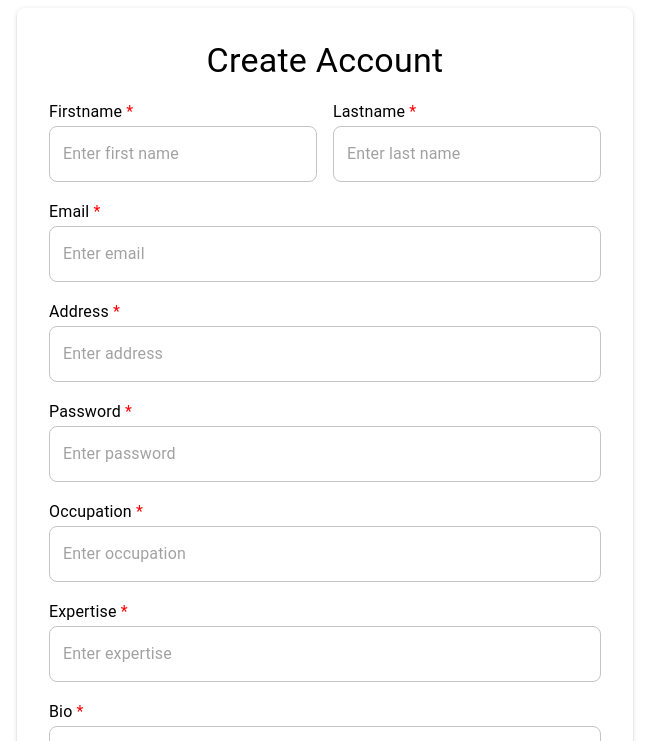
Test: CreateAccount Component › shows error message for invalid email format
The image size is (651, 741).
Note: Enter an invalid email and submit the form
Type "invalid-email" into the field with placeholder "Enter email" at (325, 254), box x1=49 y1=226 x2=601 y2=282
(page scrolled)
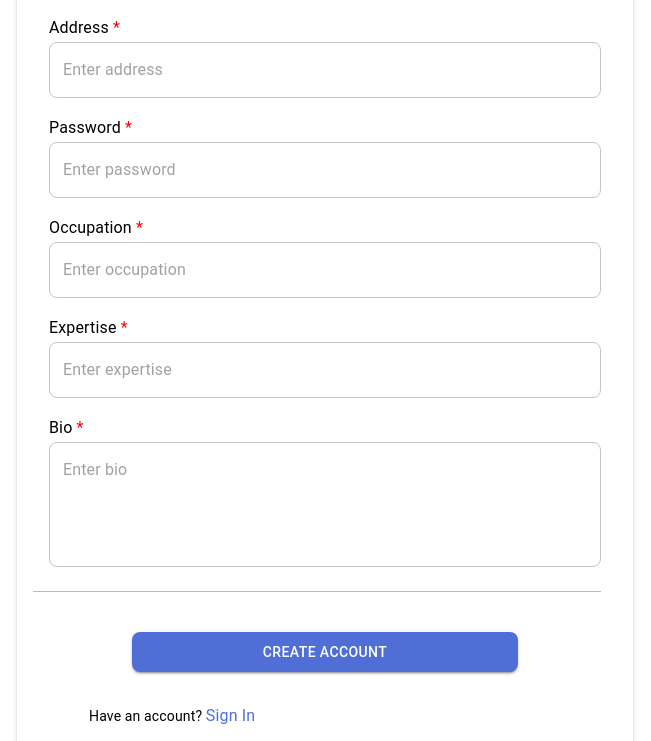
Click the button "Create Account" at (325, 652), box x1=132 y1=632 x2=518 y2=672
(page scrolled)
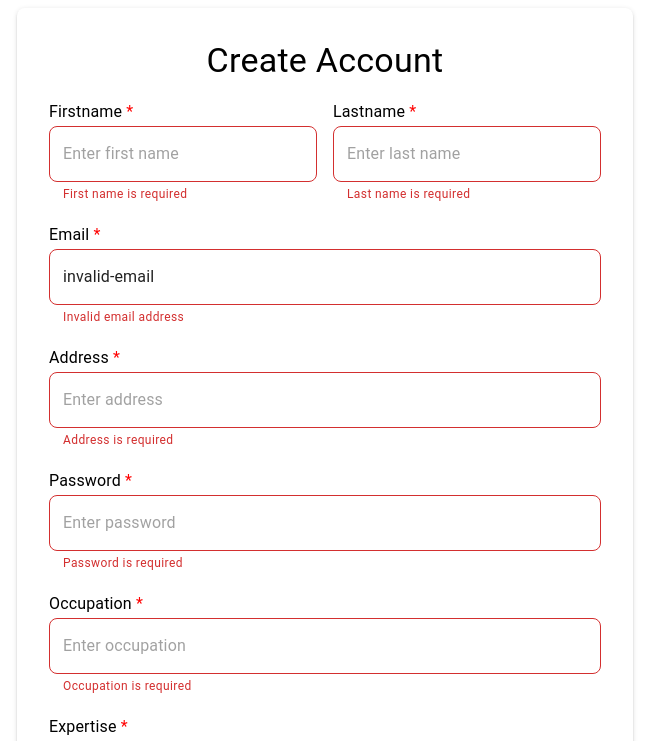
Check: the text "Invalid email address" is shown, box x1=63 y1=310 x2=184 y2=324
